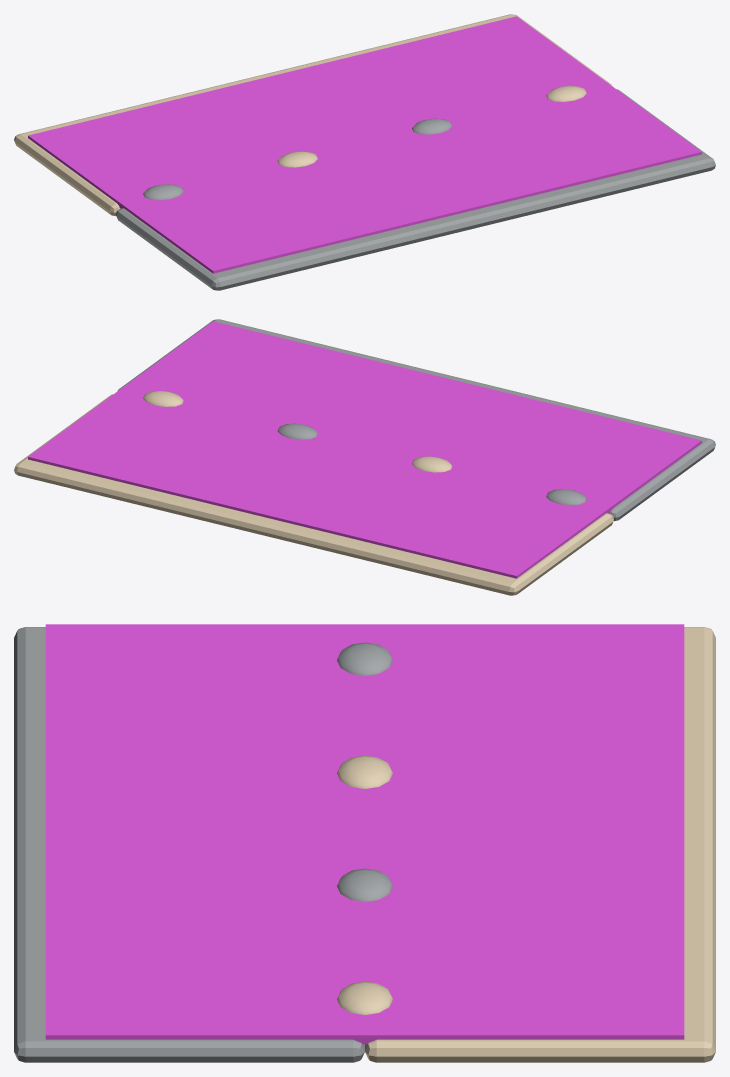
3 renders of one model, top to bottom at view 1: azimuth 30°, elevation 25°; view 2: azimuth 150°, elevation 25°; view 3: azimuth 270°, elevation 25°, orthographic. The views are drawn at different scales.
Parts seen in each view (by area): view 1: NAV_MASK_TRANSITION_ROCK_SAND, LOD1_TRANSITION_ROCK_SAND_A, LOD1_TRANSITION_ROCK_SAND_B, LOD1_TRANSITION_ROCK_SAND_Blend_02, LOD1_TRANSITION_ROCK_SAND_Blend_03, LOD1_TRANSITION_ROCK_SAND_Blend_01, LOD1_TRANSITION_ROCK_SAND_Blend_04; view 2: NAV_MASK_TRANSITION_ROCK_SAND, LOD1_TRANSITION_ROCK_SAND_B, LOD1_TRANSITION_ROCK_SAND_A, LOD1_TRANSITION_ROCK_SAND_Blend_02, LOD1_TRANSITION_ROCK_SAND_Blend_03, LOD1_TRANSITION_ROCK_SAND_Blend_01, LOD1_TRANSITION_ROCK_SAND_Blend_04; view 3: NAV_MASK_TRANSITION_ROCK_SAND, LOD1_TRANSITION_ROCK_SAND_A, LOD1_TRANSITION_ROCK_SAND_B, LOD1_TRANSITION_ROCK_SAND_Blend_04, LOD1_TRANSITION_ROCK_SAND_Blend_01, LOD1_TRANSITION_ROCK_SAND_Blend_02, LOD1_TRANSITION_ROCK_SAND_Blend_03.
Boxes of the visible parts, box(x1,y1,x2,y2) form: NAV_MASK_TRANSITION_ROCK_SAND: box(28, 16, 701, 273); LOD1_TRANSITION_ROCK_SAND_A: box(116, 89, 715, 290); LOD1_TRANSITION_ROCK_SAND_B: box(14, 14, 612, 216); LOD1_TRANSITION_ROCK_SAND_Blend_02: box(277, 151, 317, 167); LOD1_TRANSITION_ROCK_SAND_Blend_03: box(412, 118, 452, 134); LOD1_TRANSITION_ROCK_SAND_Blend_01: box(143, 184, 183, 200); LOD1_TRANSITION_ROCK_SAND_Blend_04: box(546, 86, 586, 101); NAV_MASK_TRANSITION_ROCK_SAND: box(28, 321, 701, 578); LOD1_TRANSITION_ROCK_SAND_B: box(14, 394, 613, 595); LOD1_TRANSITION_ROCK_SAND_A: box(117, 319, 715, 521); LOD1_TRANSITION_ROCK_SAND_Blend_02: box(412, 456, 452, 472); LOD1_TRANSITION_ROCK_SAND_Blend_03: box(277, 423, 317, 439); LOD1_TRANSITION_ROCK_SAND_Blend_01: box(546, 489, 586, 505); LOD1_TRANSITION_ROCK_SAND_Blend_04: box(143, 391, 183, 406); NAV_MASK_TRANSITION_ROCK_SAND: box(45, 624, 684, 1044); LOD1_TRANSITION_ROCK_SAND_A: box(14, 627, 364, 1062); LOD1_TRANSITION_ROCK_SAND_B: box(365, 627, 715, 1062); LOD1_TRANSITION_ROCK_SAND_Blend_04: box(337, 981, 392, 1014); LOD1_TRANSITION_ROCK_SAND_Blend_01: box(337, 642, 392, 675); LOD1_TRANSITION_ROCK_SAND_Blend_02: box(337, 755, 392, 788); LOD1_TRANSITION_ROCK_SAND_Blend_03: box(337, 868, 392, 901).
Size of what is drawn, in the model's own units: 6 by 0.23 by 4.2.
